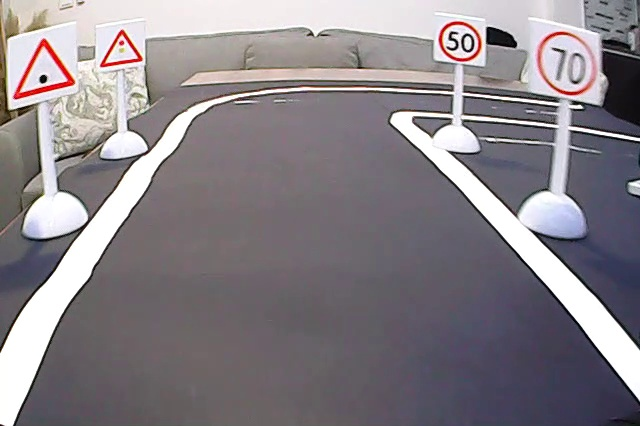green light: (11, 35, 77, 101)
red light: (98, 24, 144, 69)
speed limit 50: (436, 18, 483, 64)
speed limit 70: (535, 26, 600, 98)
